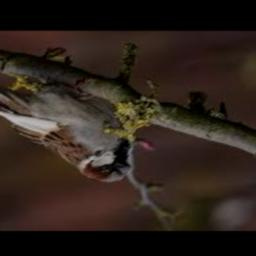Sparrow: (0, 61, 131, 183)
